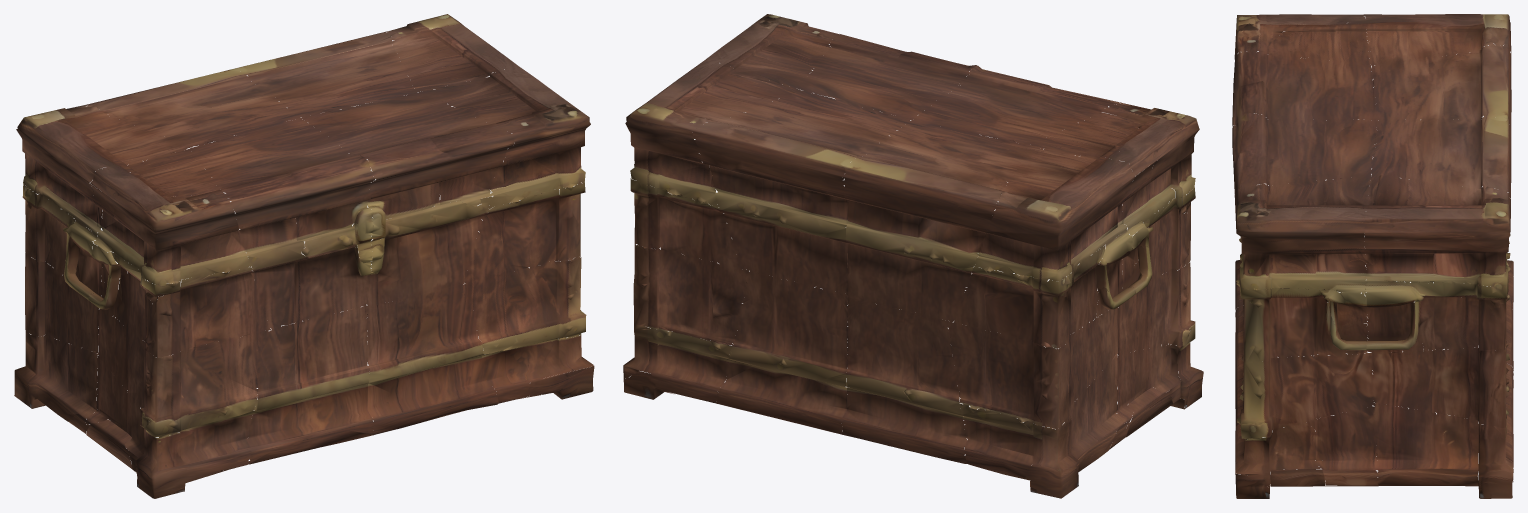
The model's file is supply_chest.glb.
The picture shows the model from 3 angles, left to right: view 1: azimuth 30°, elevation 25°; view 2: azimuth 150°, elevation 25°; view 3: azimuth 270°, elevation 25°; orthographic projection.
Visible parts, largest first — view 1: HQ_SupplyChest; view 2: HQ_SupplyChest; view 3: HQ_SupplyChest.
Boxes of the visible parts, x1=… form: HQ_SupplyChest: x1=14, y1=14, x2=594, y2=498; HQ_SupplyChest: x1=623, y1=14, x2=1203, y2=498; HQ_SupplyChest: x1=1232, y1=14, x2=1513, y2=498.
Size of the model in its own units: 0.8998 by 0.5513 by 0.5003.
1 material, 1 textured.
